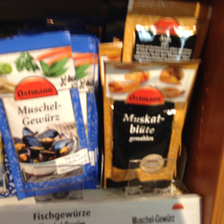spices: (1, 30, 98, 199), (100, 45, 199, 193)
